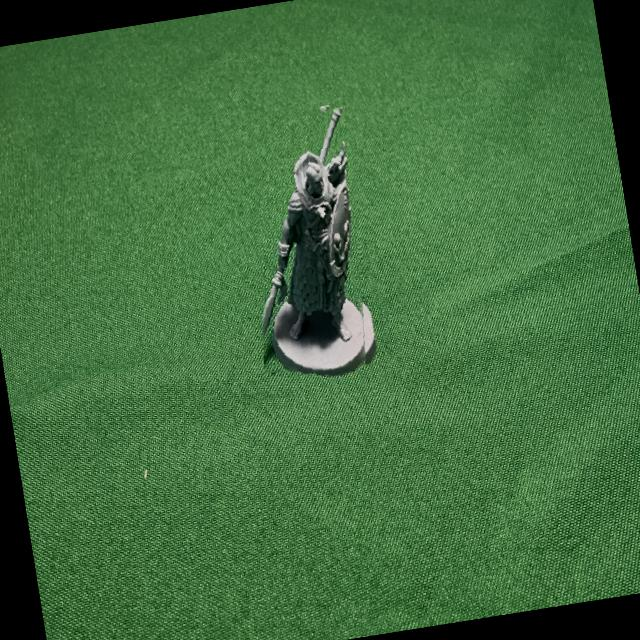isis_follower: (231, 100, 386, 382)
